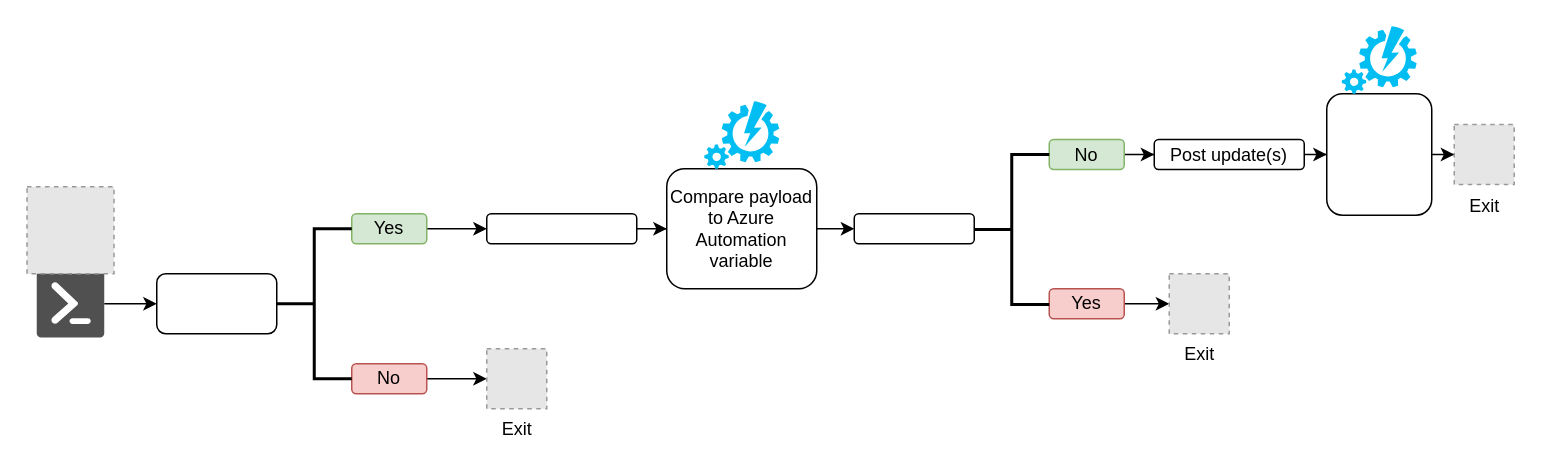
Image size: 1541x465. Some labels were removed from this diagram. Grey dashed boxes stand in for pictures. The centre of each missing label's shape, as x and y in pixels:
Create payload: pixel 561 228
Equal?: pixel 913 228
New update: pixel 216 303
Overwrite old Azure automation variable: pixel 1378 153
